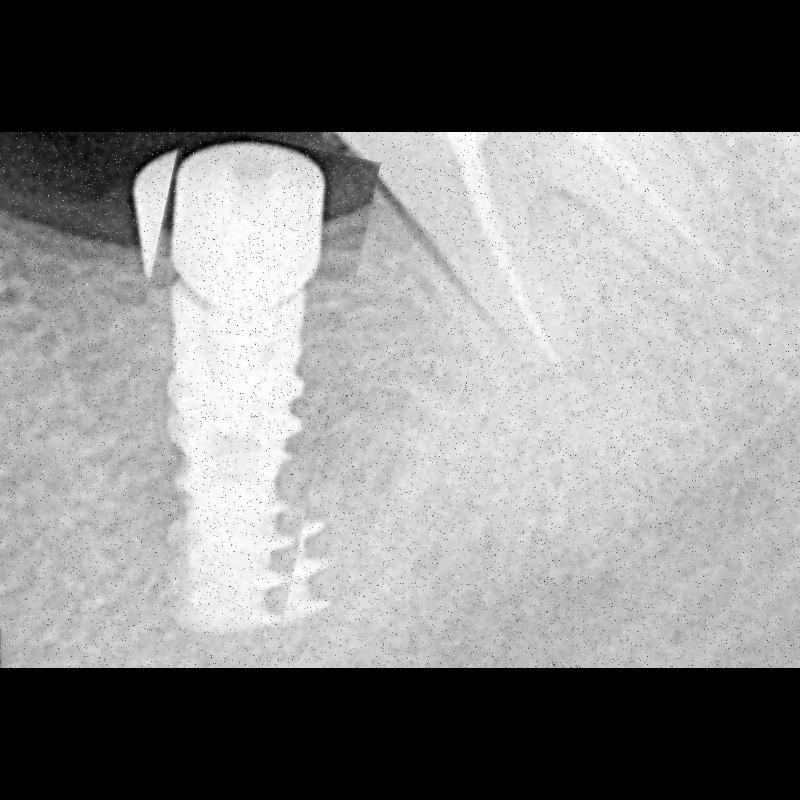NORIS: (104, 133, 356, 646)
